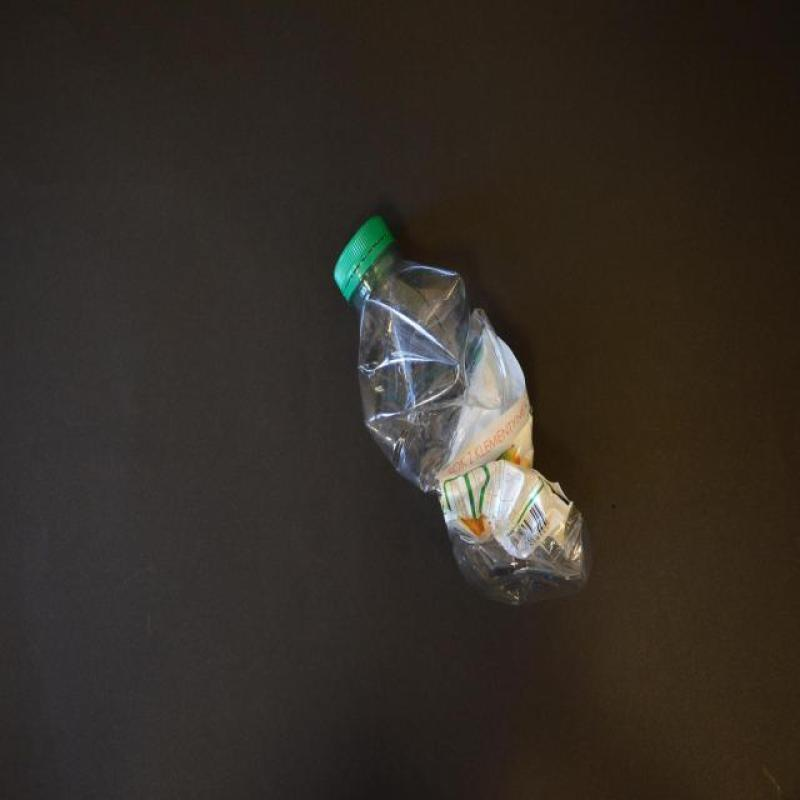botella: (332, 215, 592, 604)
